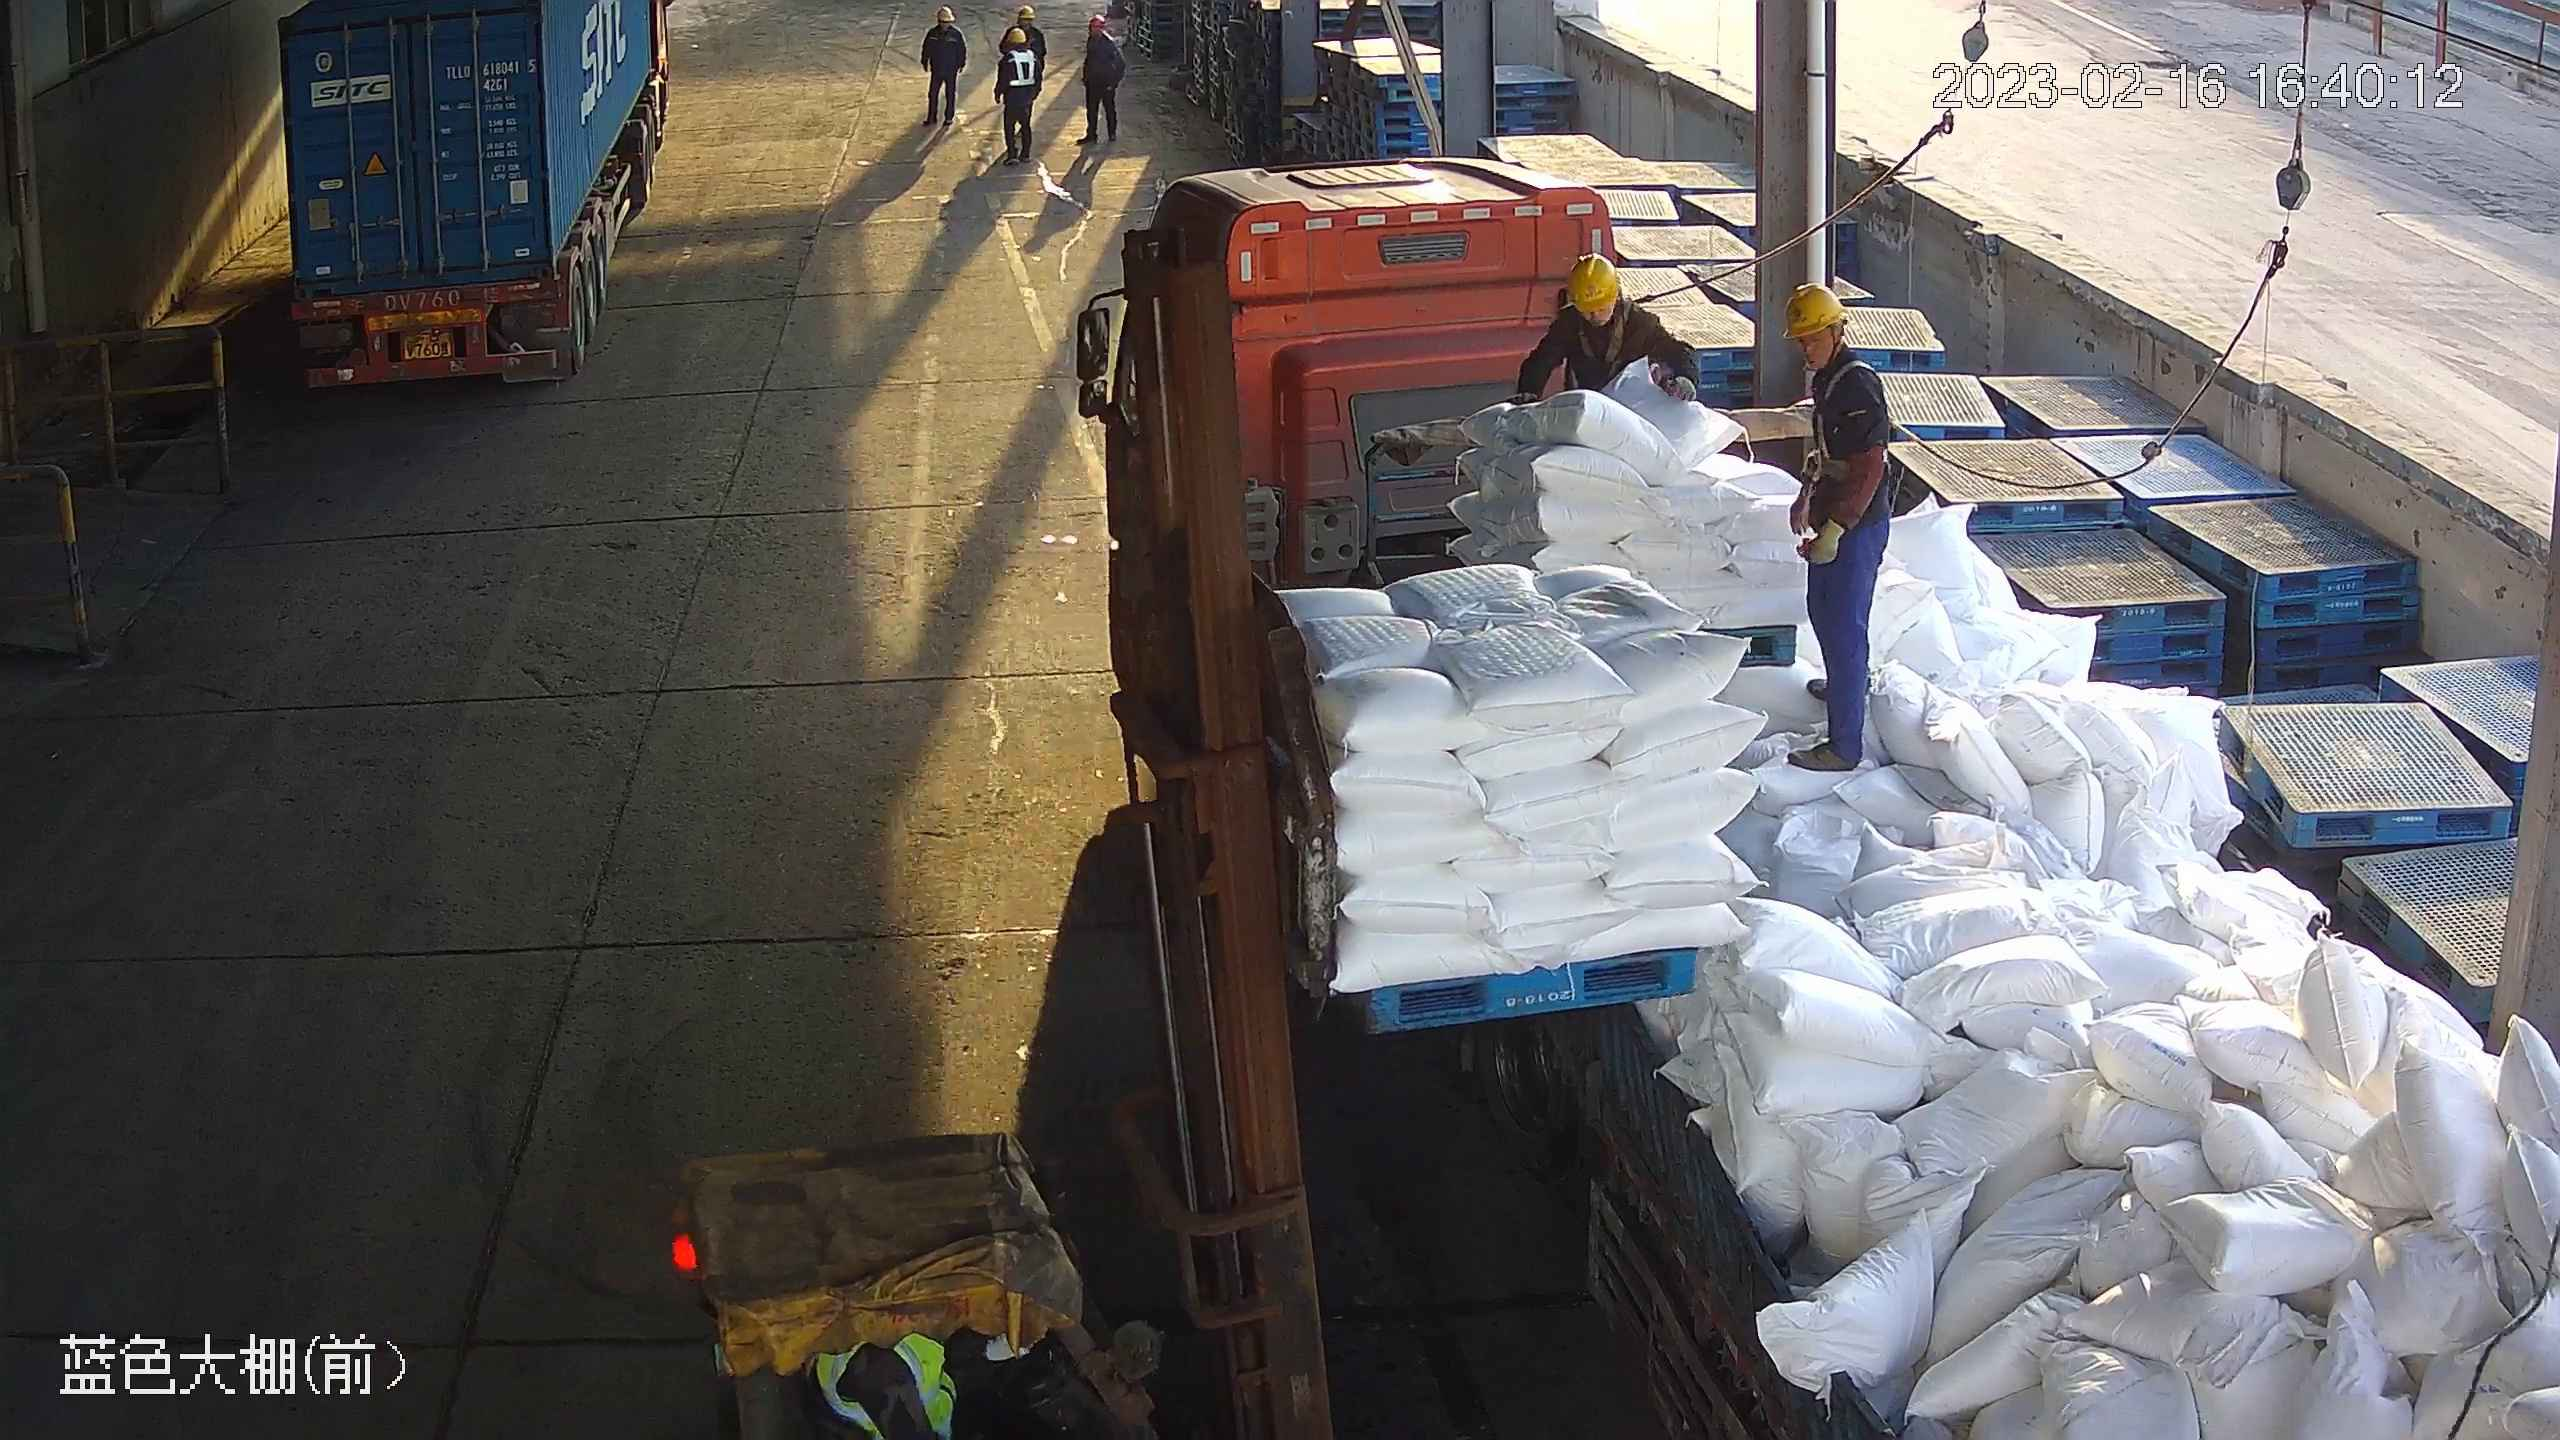belt: (1816, 358, 1909, 480), (1575, 308, 1640, 369)
head: (1759, 282, 1896, 440), (1533, 249, 1675, 364), (922, 1, 967, 40), (1000, 24, 1033, 73), (1083, 15, 1120, 53)
helmet: (1788, 277, 1849, 341), (1564, 253, 1618, 319), (1009, 24, 1028, 46), (1090, 8, 1110, 30), (934, 8, 959, 25), (1019, 4, 1032, 20)
people: (1762, 282, 1907, 786), (1080, 12, 1132, 145), (995, 26, 1040, 163), (915, 1, 962, 128)
truck: (1061, 167, 2560, 1440), (261, 1, 690, 384)
